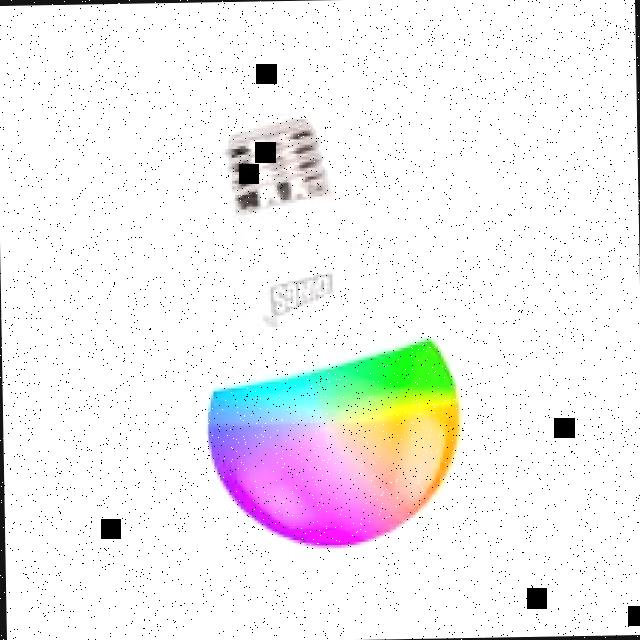light_bulb: (175, 102, 479, 562)
